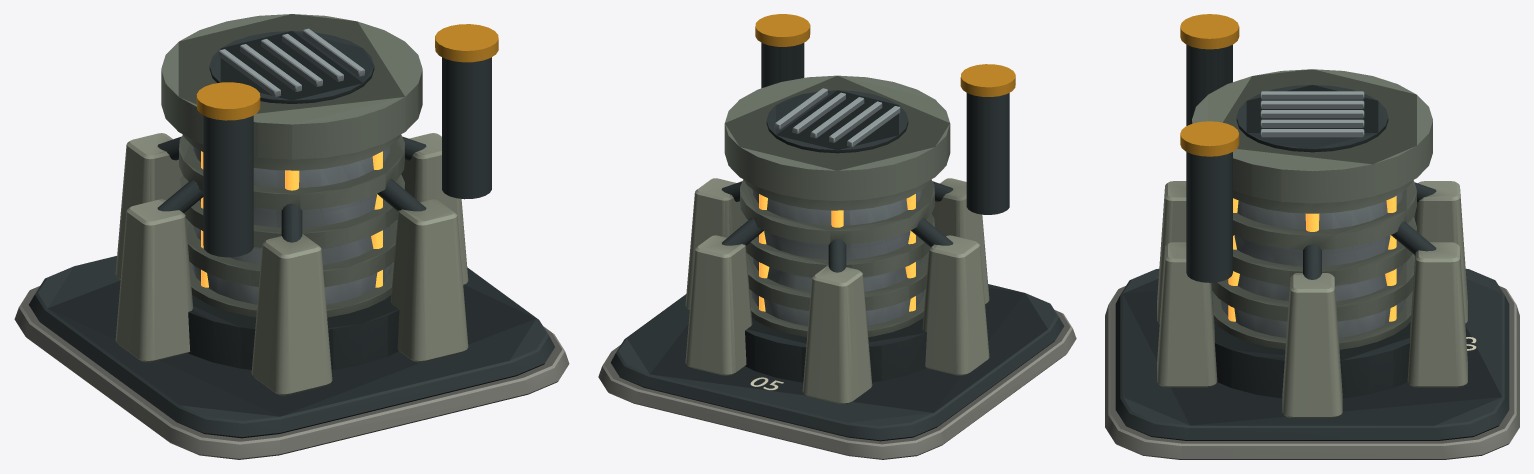
Rendered from PowerPlant.glb.
The picture shows the model from 3 angles, left to right: view 1: azimuth 30°, elevation 25°; view 2: azimuth 150°, elevation 25°; view 3: azimuth 270°, elevation 25°; orthographic projection. The views are drawn at different scales.
Parts seen in each view (by area): view 1: export_PowerPlant_Footing; view 2: export_PowerPlant_Footing; view 3: export_PowerPlant_Footing.
Boxes of the visible parts, x1=… form: export_PowerPlant_Footing: x1=14, y1=14, x2=569, y2=459; export_PowerPlant_Footing: x1=598, y1=14, x2=1076, y2=459; export_PowerPlant_Footing: x1=1105, y1=14, x2=1519, y2=459.
Size of the model in its own units: 4.64 by 3.62 by 4.64.
